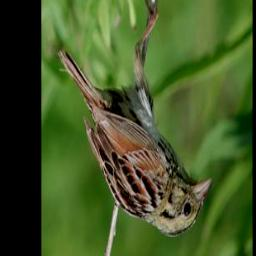Sparrow: (57, 0, 213, 239)
